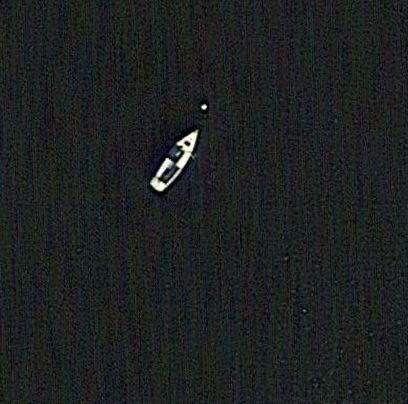boat: (144, 121, 209, 196)
